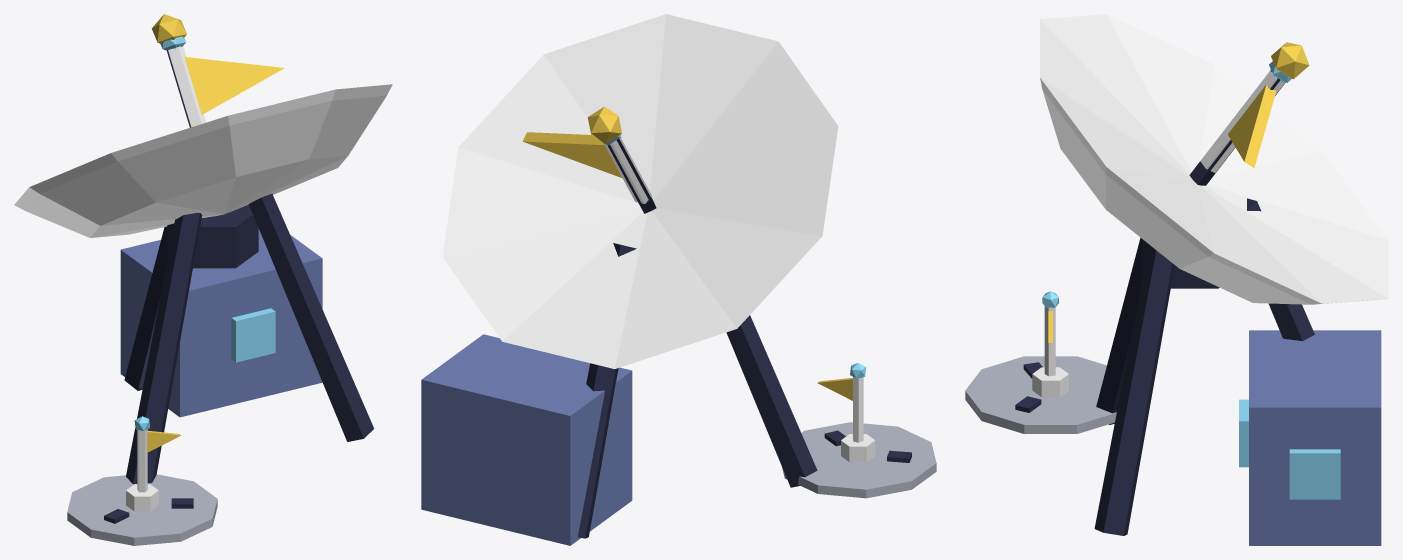
File: space-landmark-s2b.glb
3 views of the same model, side by side, from view 1: azimuth 30°, elevation 25°; view 2: azimuth 150°, elevation 25°; view 3: azimuth 270°, elevation 25° (orthographic). The views are drawn at different scales.
Parts seen in each view (by area): view 1: space-landmark-s2b; view 2: space-landmark-s2b; view 3: space-landmark-s2b.
Part boxes in pixels (x1,y1,x2,y2): space-landmark-s2b: (14, 14, 392, 545); space-landmark-s2b: (421, 14, 936, 545); space-landmark-s2b: (965, 14, 1388, 545).
Bounding box in the file's own units: 0.9398 × 0.9384 × 0.8326.
